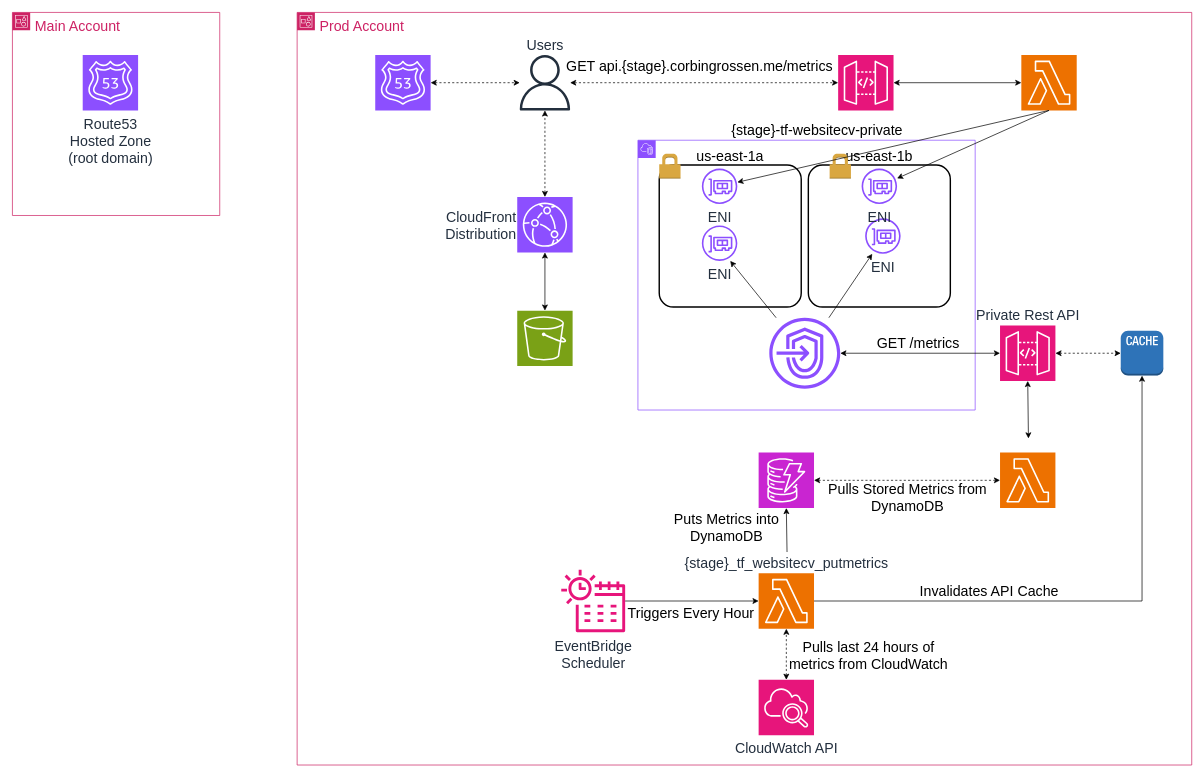
Some shapes in this 1204 by 777 pixel diagram are drawn without their labels. The shapes that lost their labels are listed below. From the top down, each one's box as (x1, y1, x2, y2) in pixels, then its label:
(375, 54, 431, 110): Route53 Hosted Zone (subdomain for stage)
(837, 54, 894, 110): Public HTTP API
(1021, 54, 1077, 110): {stage}_tf_proxy_websitecv_getmetrics
(517, 310, 573, 366): Private S3 Bucket Hosting Web Files
(769, 317, 840, 388): API Gateway Endpoint
(1120, 330, 1163, 376): API Cache
(758, 452, 814, 508): {stage}-websitecv-table
(999, 452, 1055, 508): {stage}_tf_websitecv_getmetrics
